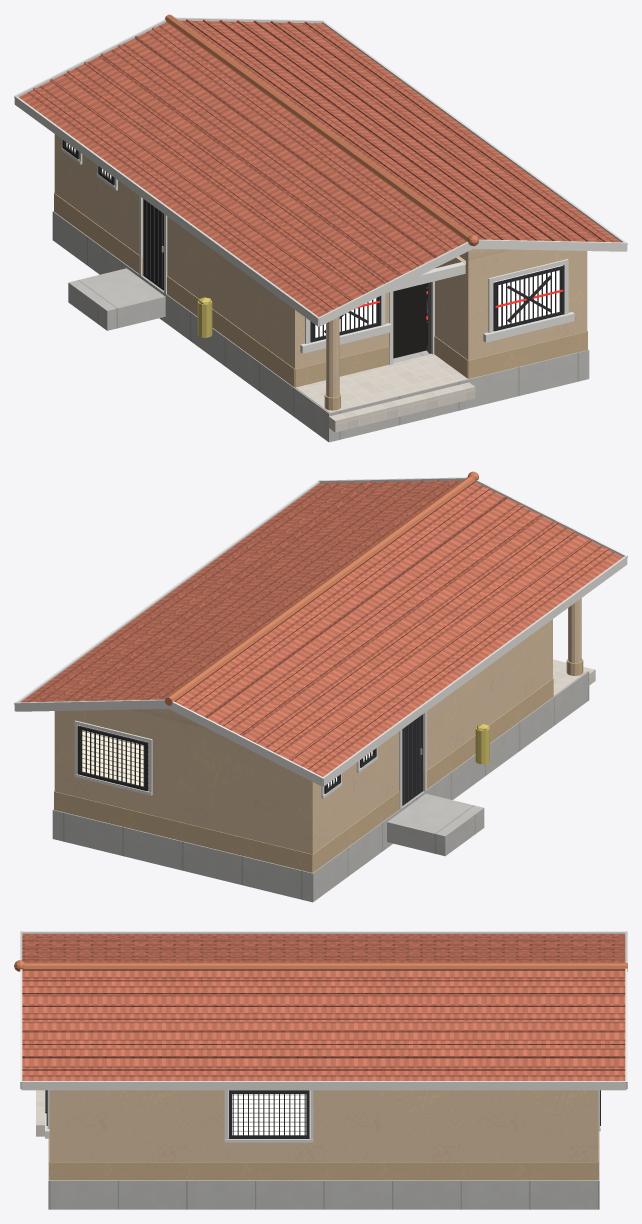
Rendered from casa_creador_espejo.glb.
3 views of the same model, one above another, from view 1: azimuth 30°, elevation 25°; view 2: azimuth 150°, elevation 25°; view 3: azimuth 270°, elevation 25° (orthographic).
Visible parts, largest first — view 1: FG_CasaCreador; view 2: FG_CasaCreador; view 3: FG_CasaCreador.
Part boxes in pixels (box(x1,y1,x2,y2)): FG_CasaCreador: box(14, 14, 627, 442); FG_CasaCreador: box(14, 471, 627, 902); FG_CasaCreador: box(14, 931, 627, 1209).
Size of the model in its own units: 8.65 by 4.48 by 13.43.
16 materials, 6 textured.
